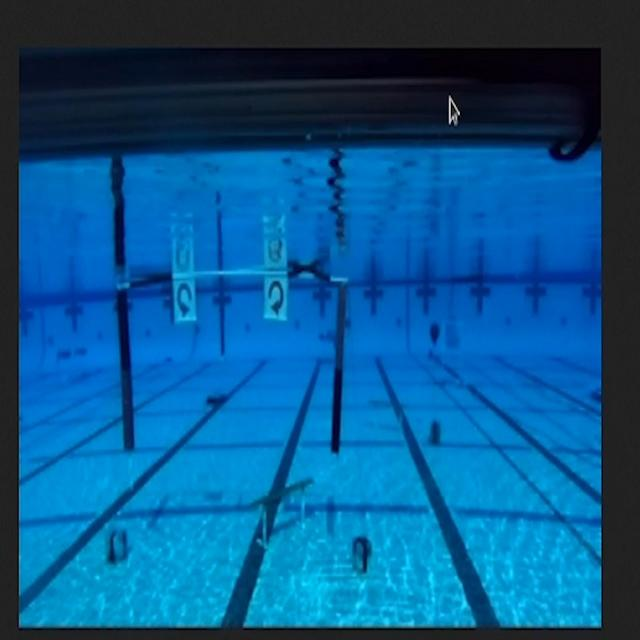Gate: (116, 274, 352, 457)
